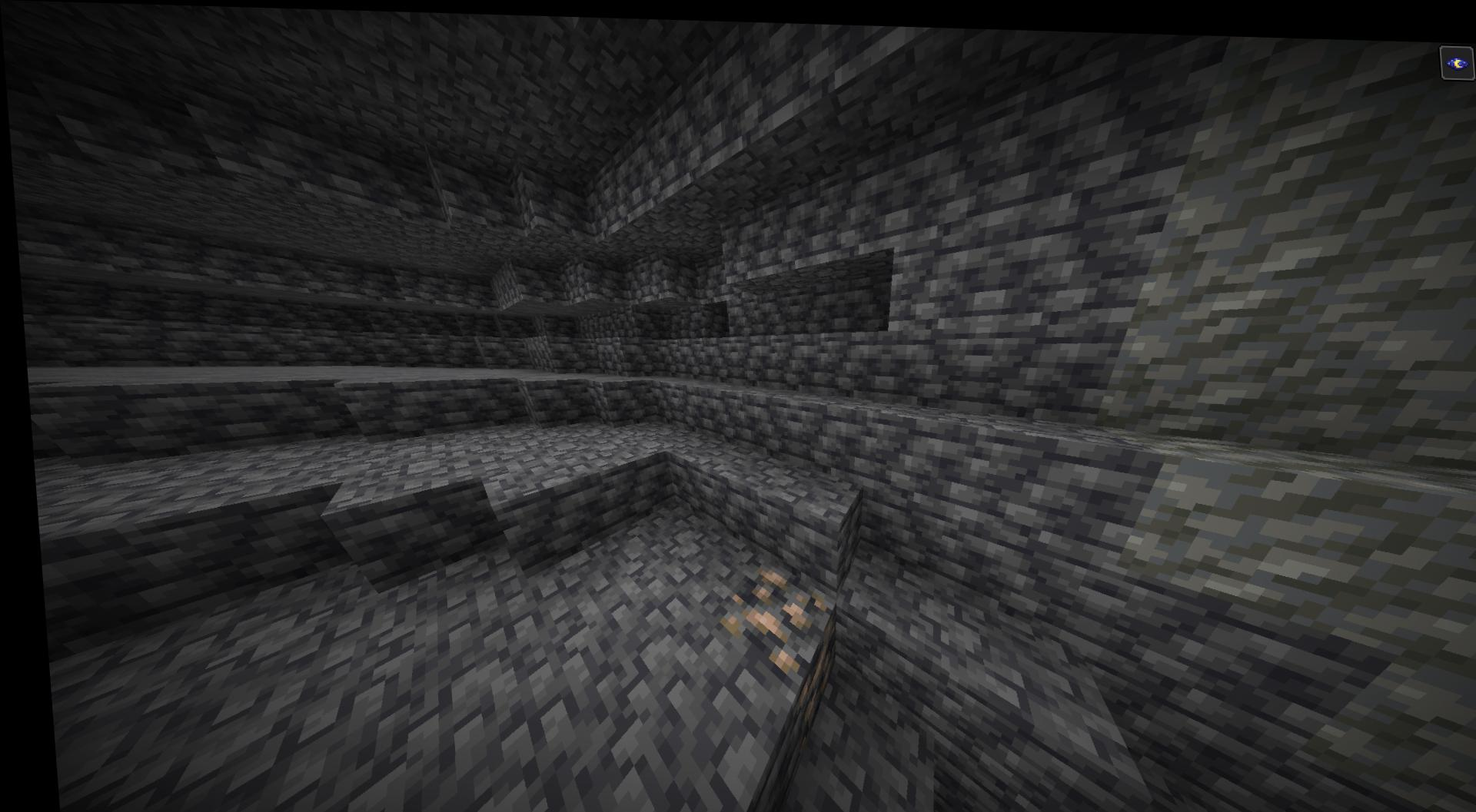iron ore: (707, 564, 823, 670)
